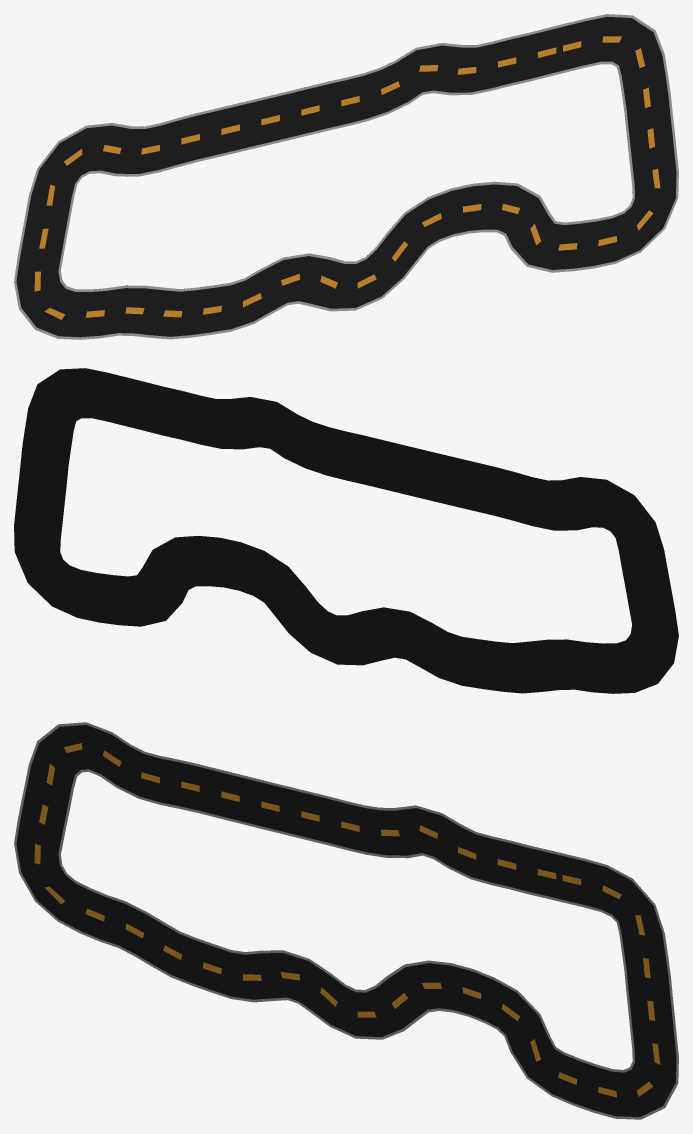
Rendered from track.obj.
The picture shows the model from 3 angles, top to bottom: view 1: azimuth 30°, elevation 25°; view 2: azimuth 150°, elevation 25°; view 3: azimuth 330°, elevation 25°; orthographic projection.
Bounding box in the file's own units: 10.82 × 4.16 × 0.002.
